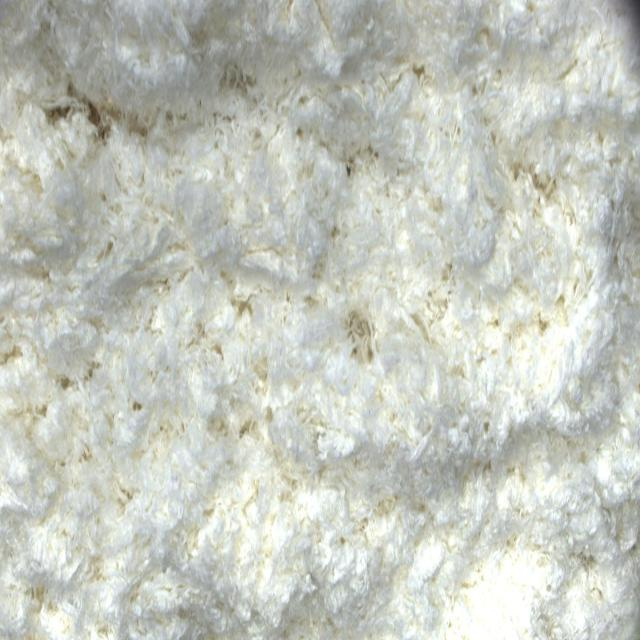dust: (46, 79, 106, 141)
